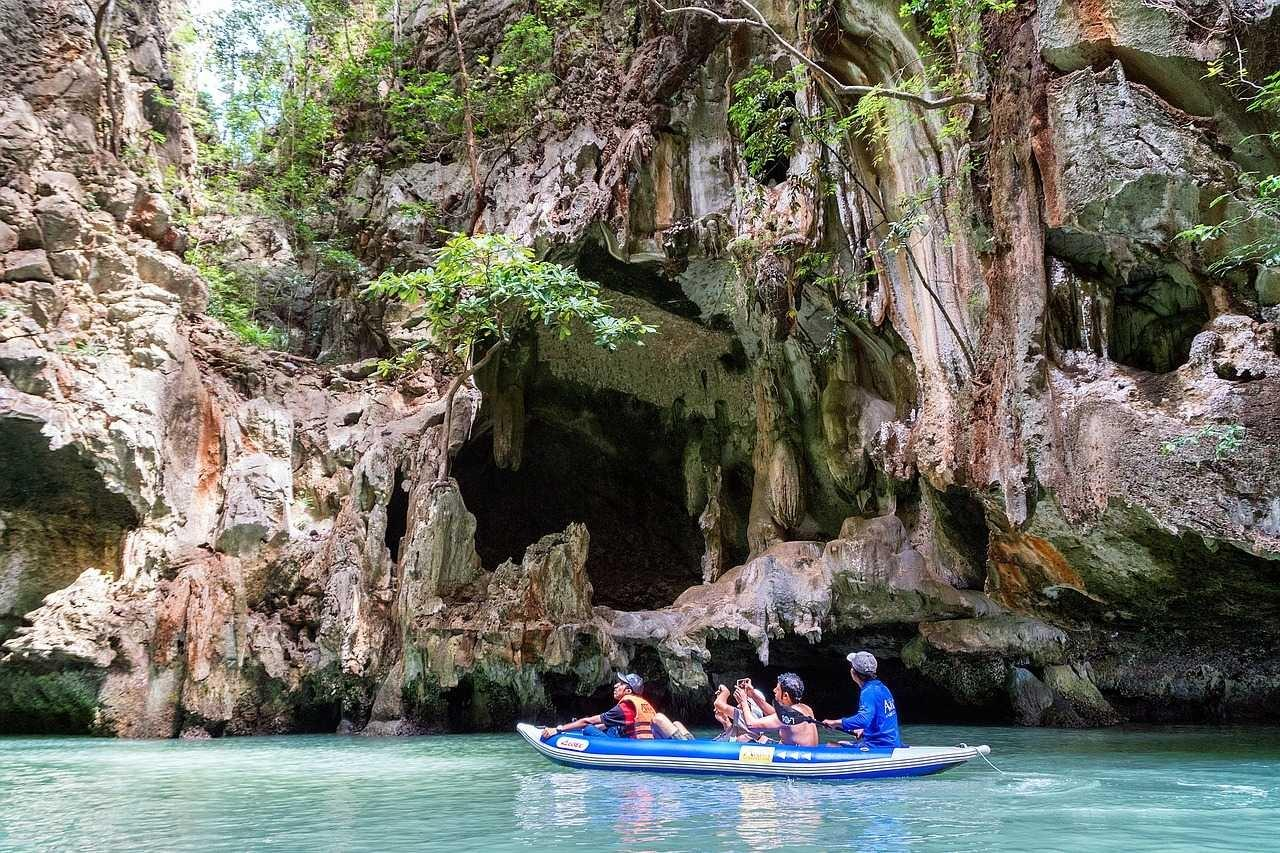kayak: (516, 725, 997, 777), (715, 681, 825, 754)
